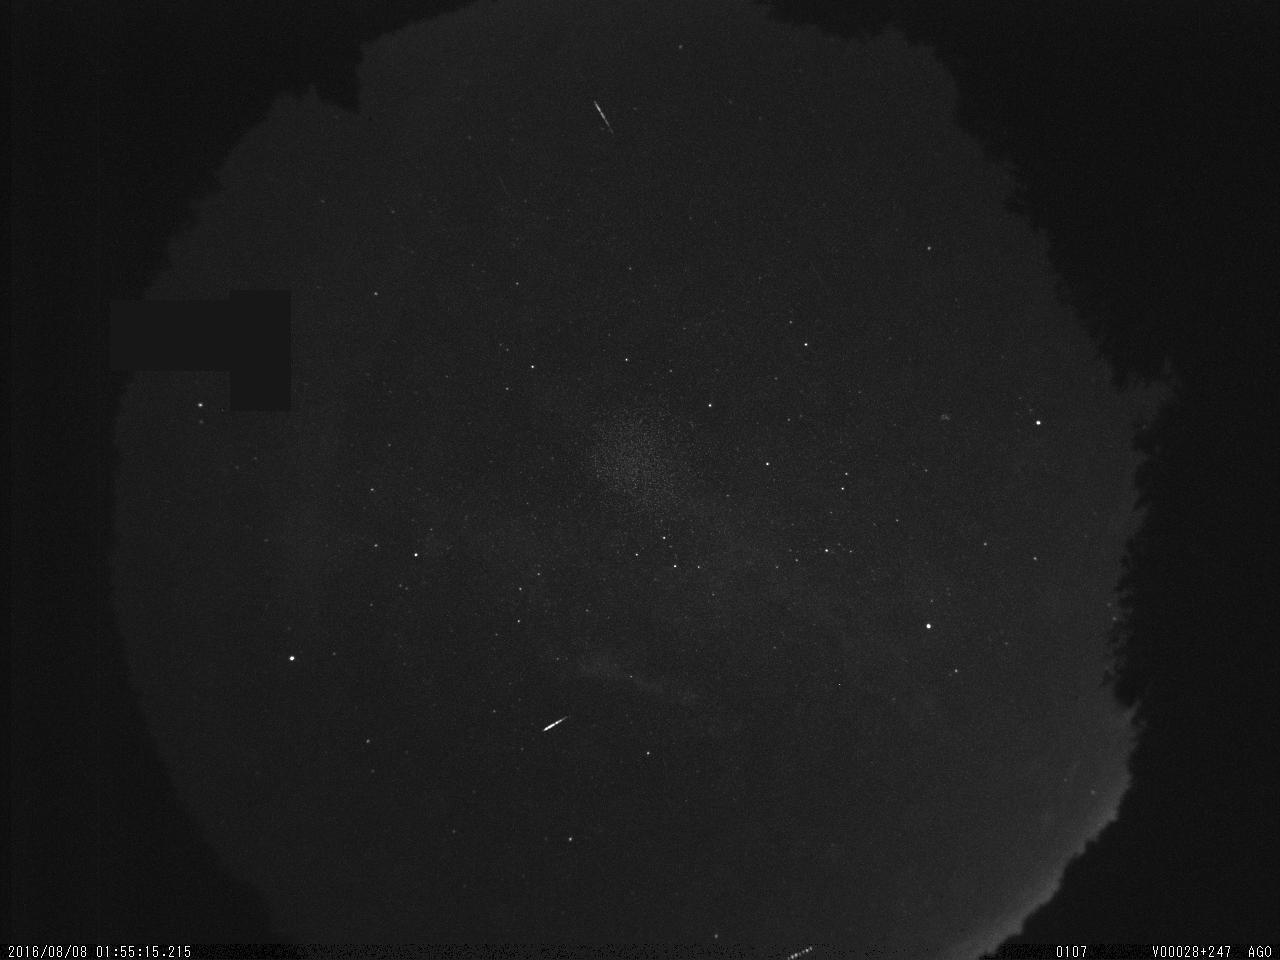Meteor: (588, 91, 618, 149), (538, 711, 570, 736)
